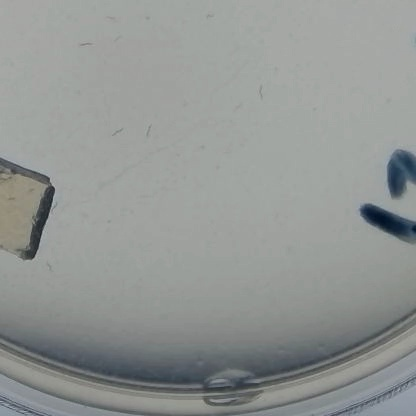worm: (252, 72, 275, 108), (71, 28, 101, 49), (140, 118, 158, 145), (41, 251, 62, 274), (94, 8, 126, 23), (105, 31, 132, 47), (196, 8, 223, 24), (108, 123, 129, 142), (52, 202, 62, 216)
